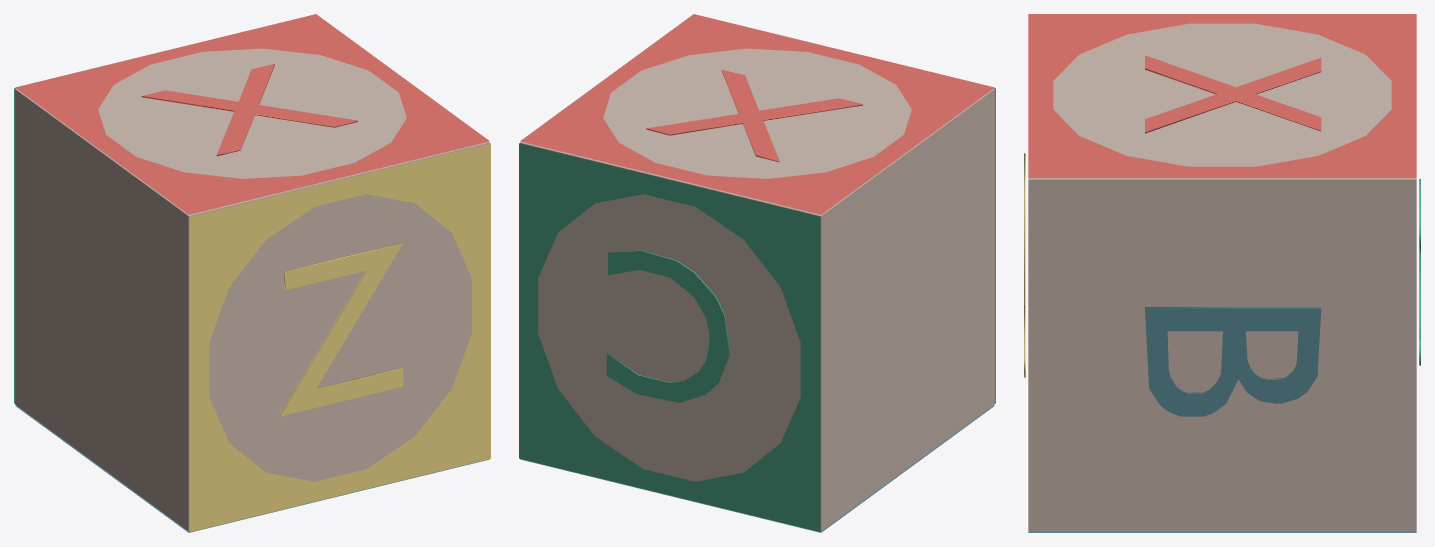
3 renders of one model, left to right at view 1: azimuth 30°, elevation 25°; view 2: azimuth 150°, elevation 25°; view 3: azimuth 270°, elevation 25°, orthographic. The views are drawn at different scales.
Visible parts, largest first — view 1: cube; view 2: cube; view 3: cube.
Part boxes in pixels (<box>): cube: <box>14,14,490,532</box>; cube: <box>519,14,995,532</box>; cube: <box>1024,14,1420,532</box>.
Size of the model in its own units: 0.0453 by 0.046 by 0.046.
